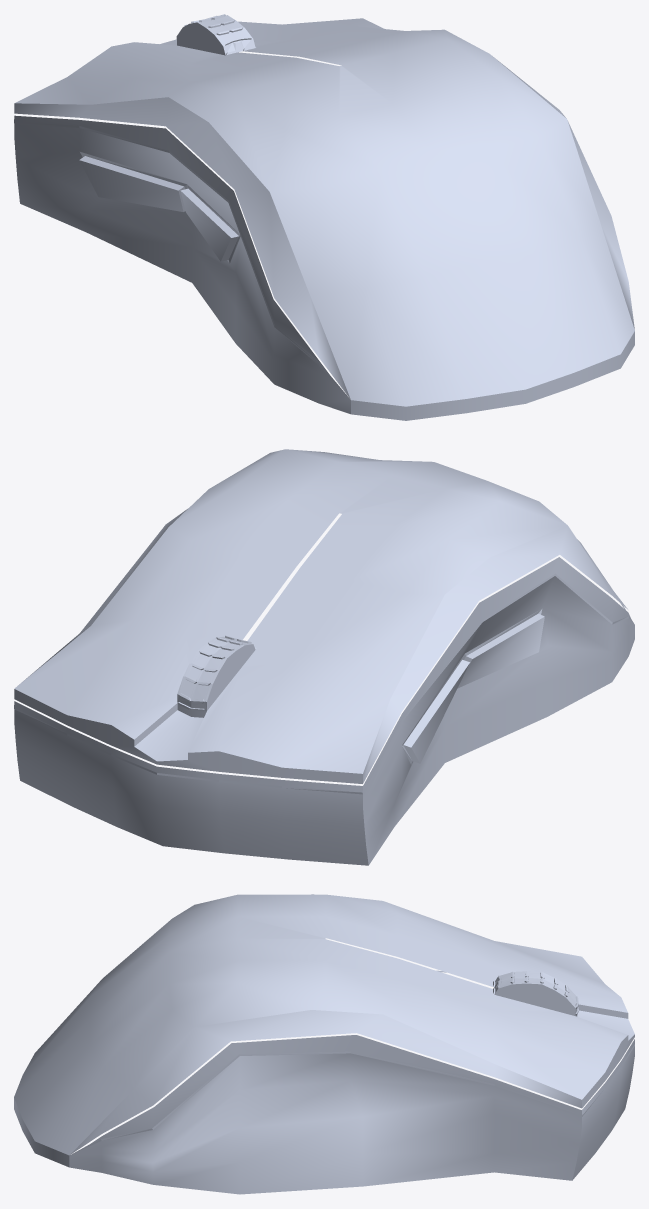
Rendered from 프론트엔드 4조 마우스 버전 3 glb버젼.glb.
The picture shows the model from 3 angles, top to bottom: view 1: azimuth 30°, elevation 25°; view 2: azimuth 150°, elevation 25°; view 3: azimuth 270°, elevation 25°; orthographic projection. The views are drawn at different scales.
Visible parts, largest first — view 1: Box001; view 2: Box001; view 3: Box001.
Part boxes in pixels (x1,y1,x2,y2): Box001: (14, 14, 634, 420); Box001: (14, 449, 634, 865); Box001: (14, 894, 634, 1194).
Size of the model in its own units: 1.42 by 0.7201 by 2.38.
